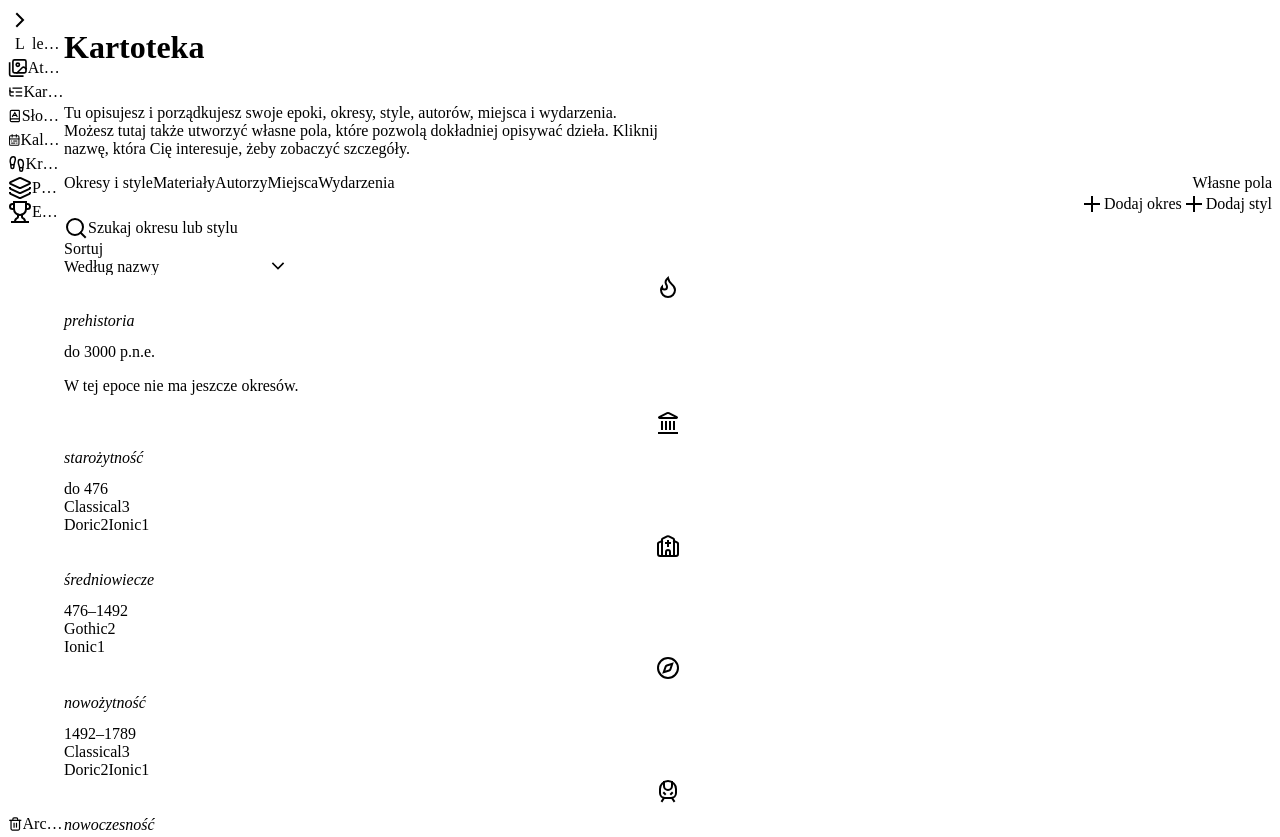
Test: card index page › offers the search on every tab however few values it has
Expected: the search field labelled "Szukaj okresu lub stylu" is shown, [88,216,288,240]
Click the tab "Materiały" at [184, 183], box [153,174,215,192]
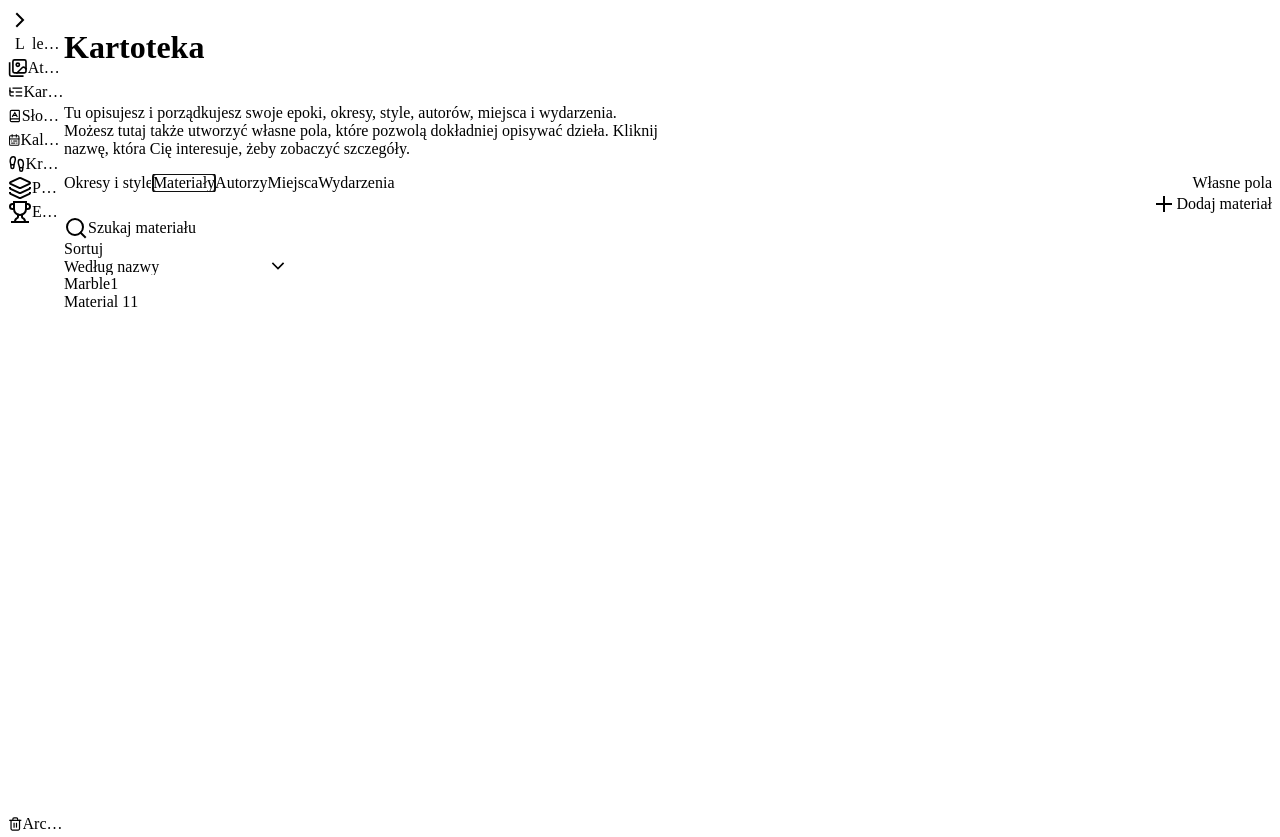
Expected: the search field labelled "Szukaj materiału" is shown, [88,216,288,240]
